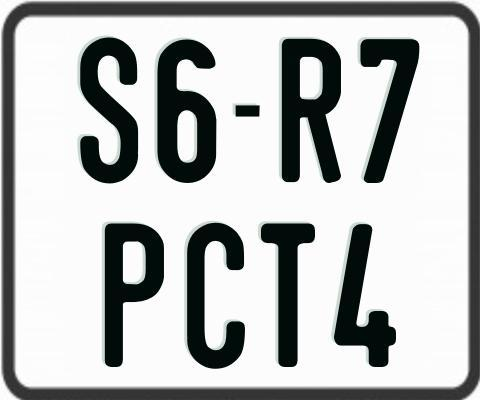4: (333, 222, 399, 371)
6: (154, 39, 214, 184)
7: (359, 36, 418, 180)
C: (187, 220, 249, 368)
P: (104, 220, 165, 364)
R: (279, 36, 338, 184)
S: (78, 36, 142, 183)
T: (260, 223, 320, 370)
